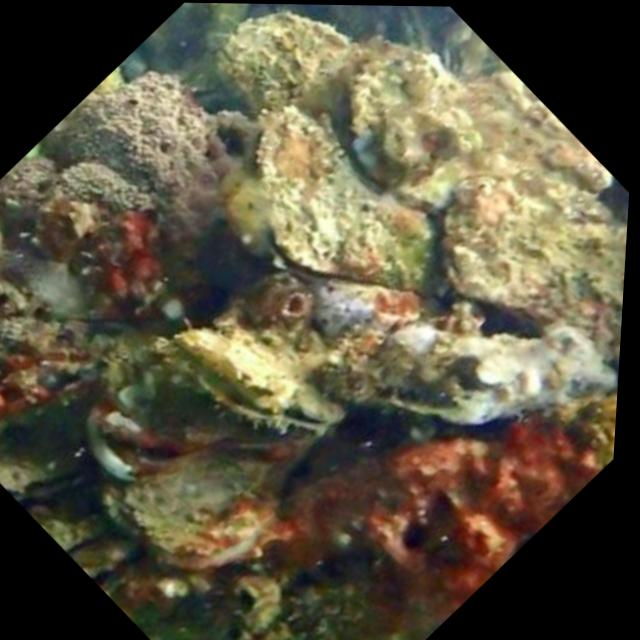Oyster-Closed: (241, 104, 444, 301), (156, 331, 348, 437), (0, 440, 97, 507), (394, 6, 431, 52)
Oyster-Indeterminate: (221, 12, 426, 219), (445, 156, 627, 363), (372, 322, 615, 422), (346, 42, 478, 210), (461, 70, 616, 200), (202, 3, 253, 54)
Oyster-Open: (69, 534, 145, 598)
